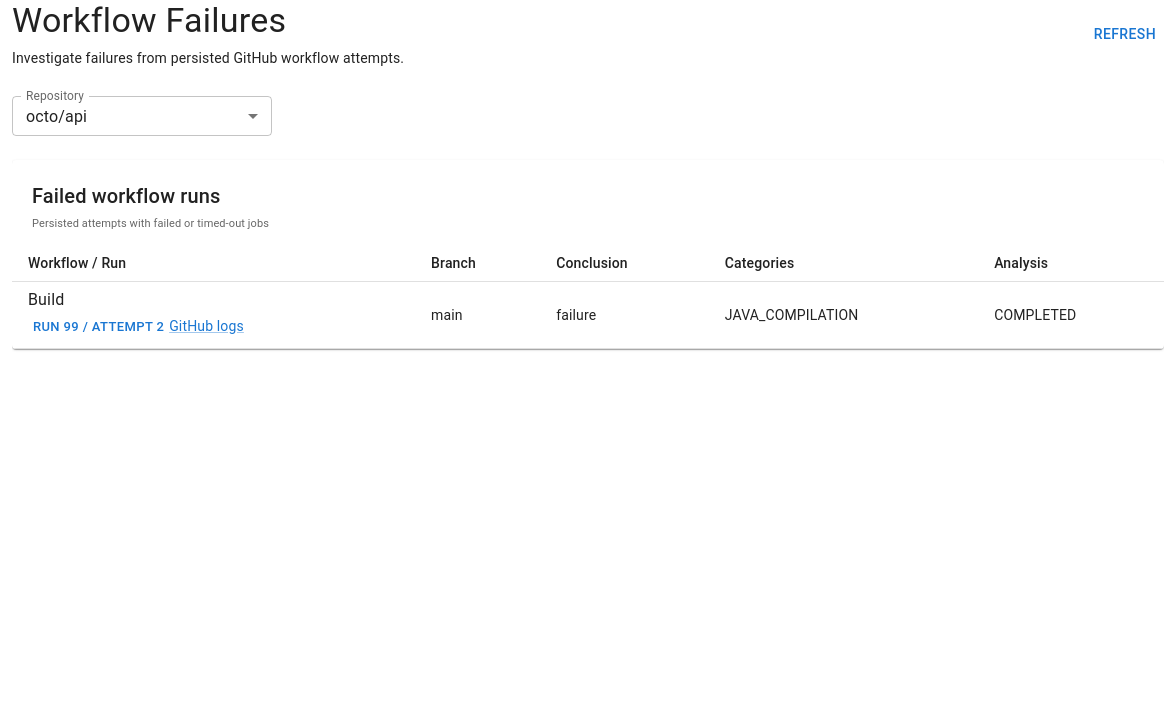
Test: persisted workflow failures › distinguishes observations, hypotheses, provenance, and supporting log references
Click the button "Run 99 / attempt 2": (99, 327) [28, 312, 169, 342]
(page scrolled)
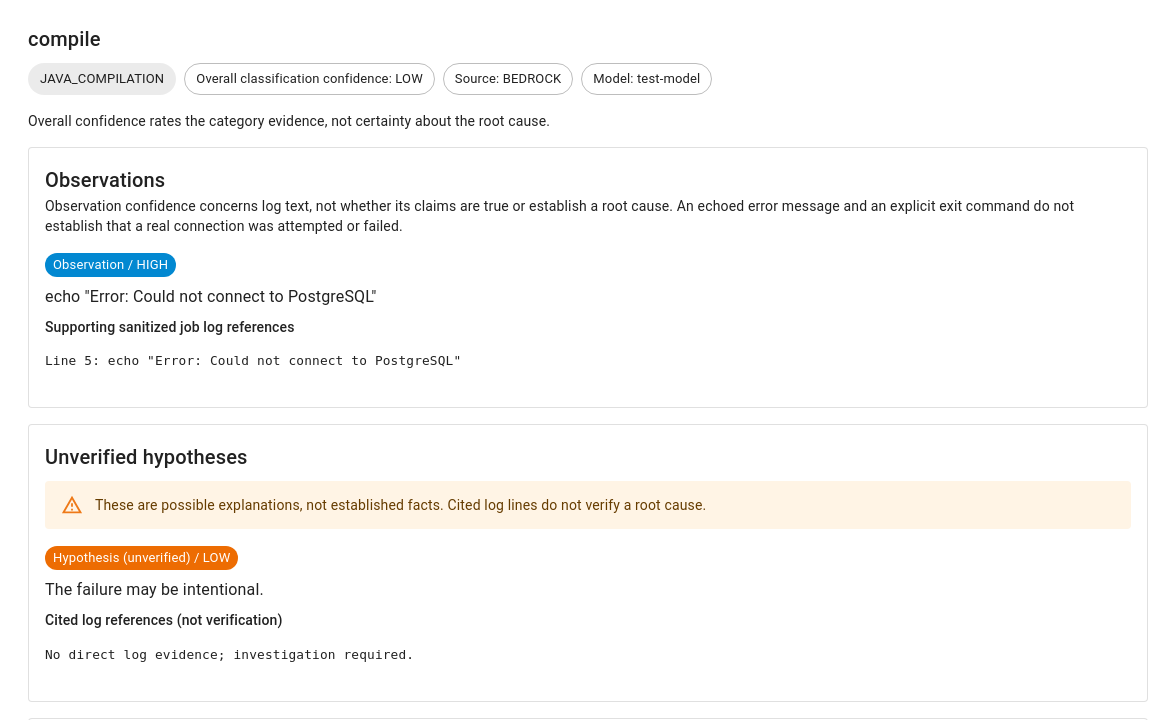
Now the text "Source: BEDROCK" is shown, box [455, 71, 561, 86]
Now the text "Model: test-model" is shown, box [593, 71, 700, 86]
Now the text "Overall classification confidence: LOW" is shown, box [185, 69, 434, 88]
